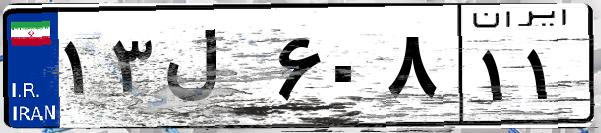0: (330, 28, 385, 110)
1: (57, 26, 110, 100), (475, 38, 525, 113), (525, 38, 570, 115)
3: (110, 28, 158, 98)
6: (270, 28, 330, 110)
8: (385, 28, 445, 110)
ل: (158, 20, 270, 120)
